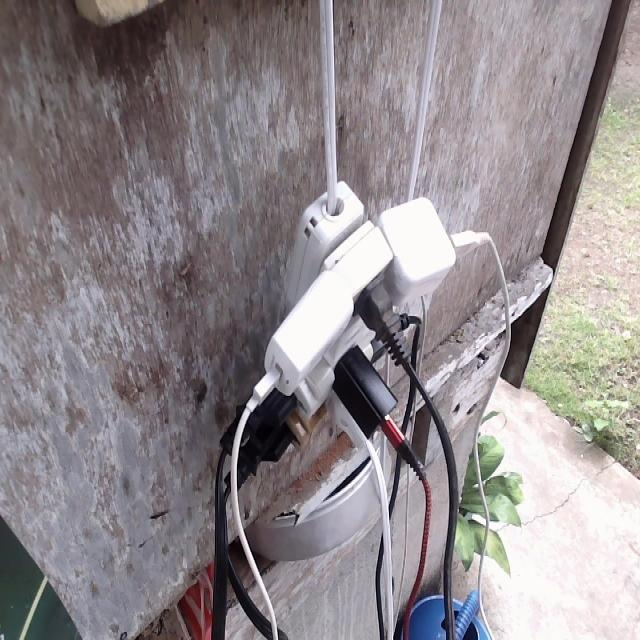-: (231, 173, 480, 478)
